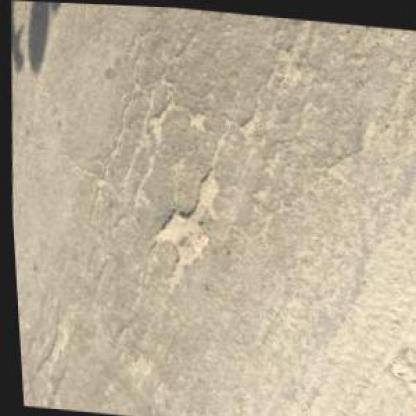pothole: (141, 160, 226, 291)
